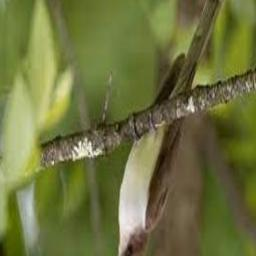Cuckoo: (108, 0, 236, 256)
